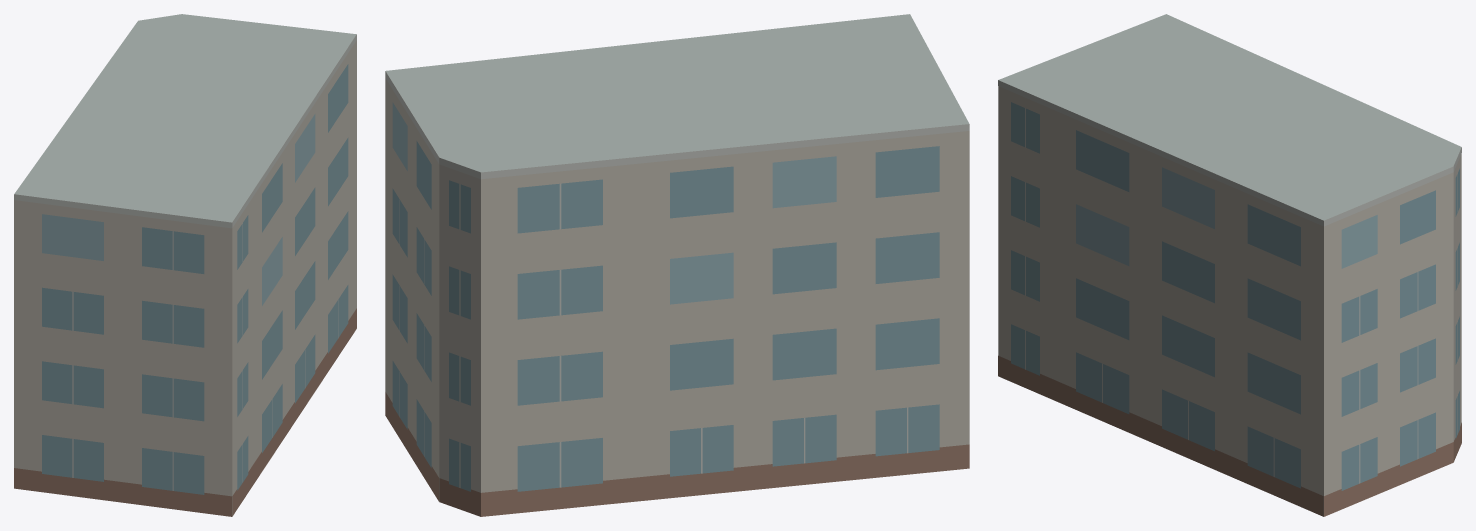
Rendered from survey-upis-32837622.glb.
3 renders of one model, left to right at view 1: azimuth 30°, elevation 25°; view 2: azimuth 150°, elevation 25°; view 3: azimuth 270°, elevation 25°, orthographic. The views are drawn at different scales.
Visible parts, largest first — view 1: survey-upis-32837622.tmp; view 2: survey-upis-32837622.tmp; view 3: survey-upis-32837622.tmp.
Boxes of the visible parts, box(x1,y1,x2,y2) form: survey-upis-32837622.tmp: box(14, 14, 356, 516); survey-upis-32837622.tmp: box(385, 14, 969, 516); survey-upis-32837622.tmp: box(998, 14, 1461, 516).
Size of the model in its own units: 18.42 by 12.3 by 17.46.
